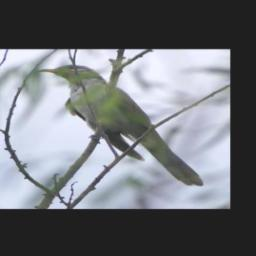Cuckoo: (39, 64, 212, 188)
